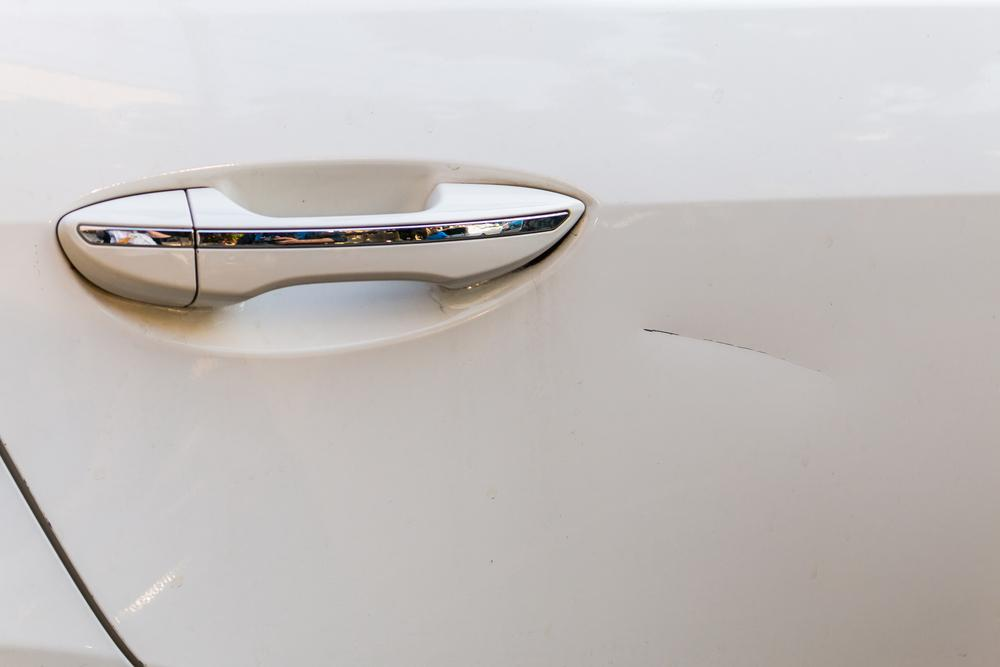scratch: (623, 317, 843, 381)
